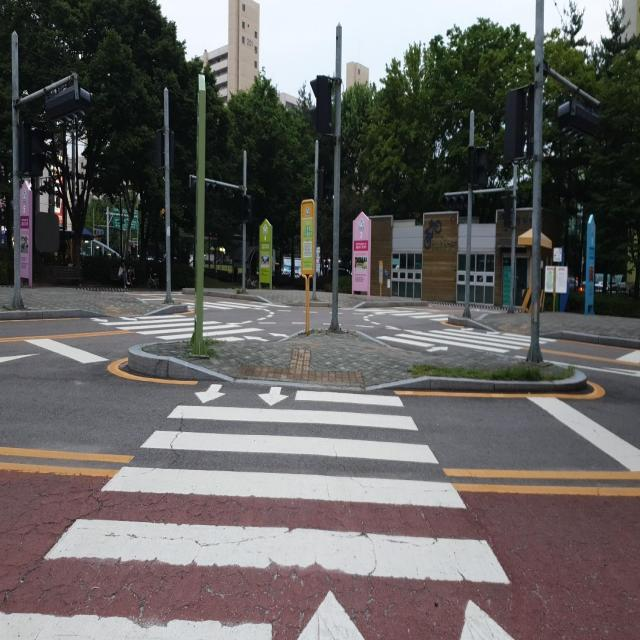횡단보도: (0, 379, 517, 640), (376, 326, 557, 362), (98, 314, 275, 344), (350, 304, 462, 324), (175, 297, 288, 312)
